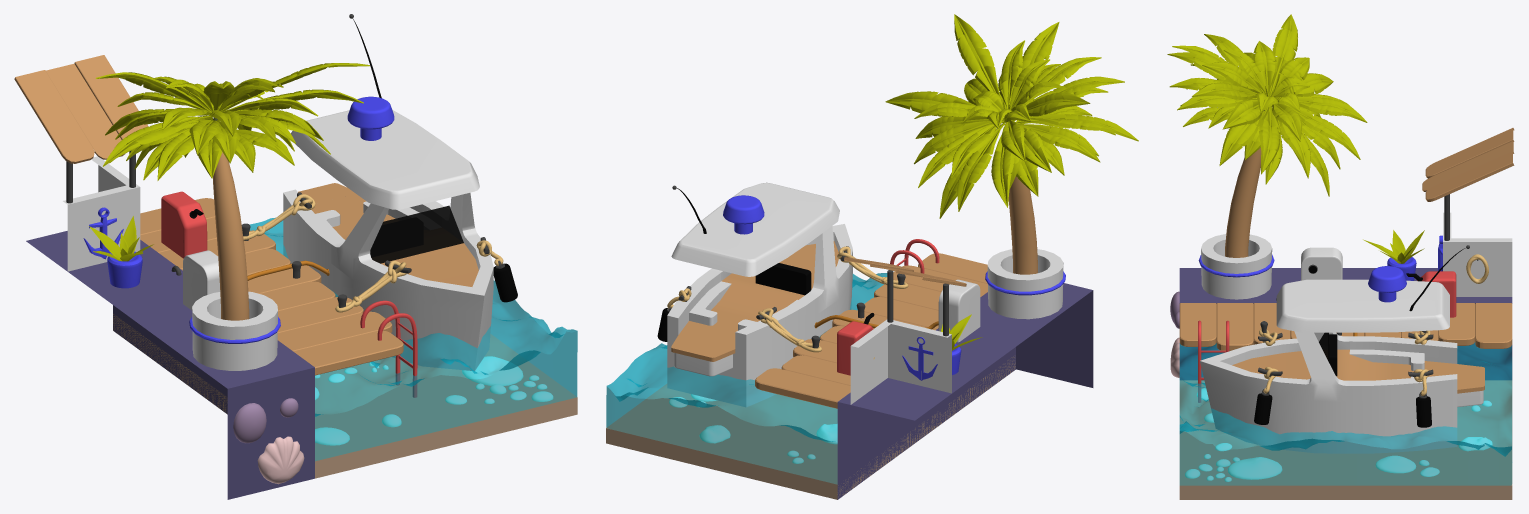
Rendered from TextureReady3.fbx.
3 views of the same model, side by side, from view 1: azimuth 30°, elevation 25°; view 2: azimuth 150°, elevation 25°; view 3: azimuth 270°, elevation 25° (orthographic). The views are drawn at different scales.
Visible parts, largest first — view 1: pPlane51, BoatBody, Sand, ConcreteBlock, BoatAwning, PottedPalm, DockHouseWalls, WoodDock33, WoodDock34, WoodDock, GasCan, WoodDock25 (+26 smaller); view 2: pPlane51, ConcreteBlock, BoatBody, Sand, BoatAwning, PottedPalm, DockHouseWalls, WoodDock32, pPlane5, WhiteGasThing, WoodDock27, pPlane17 (+26 smaller); view 3: BoatBody, pPlane51, Sand, BoatAwning, PottedPalm, ConcreteBlock, DockHouseWalls, WoodDock32, WoodDock25, WoodDock, WoodDock35, WhiteGasThing (+33 smaller).
Boxes of the visible parts, x1,y1,x2,y2 form: pPlane51: [249, 217, 577, 461]; BoatBody: [283, 189, 493, 370]; Sand: [113, 314, 577, 478]; ConcreteBlock: [26, 231, 314, 499]; BoatAwning: [291, 110, 479, 209]; PottedPalm: [189, 117, 280, 370]; DockHouseWalls: [63, 156, 140, 271]; WoodDock33: [14, 70, 94, 163]; WoodDock34: [46, 63, 124, 159]; WoodDock: [293, 330, 403, 375]; GasCan: [161, 191, 207, 258]; WoodDock25: [277, 311, 392, 351]; pPlane51: [606, 273, 887, 484]; ConcreteBlock: [837, 283, 1093, 499]; BoatBody: [667, 224, 852, 407]; Sand: [606, 356, 1015, 499]; BoatAwning: [671, 182, 839, 276]; PottedPalm: [985, 176, 1065, 319]; DockHouseWalls: [850, 319, 951, 404]; WoodDock32: [755, 368, 850, 408]; pPlane5: [954, 14, 1004, 108]; WhiteGasThing: [938, 279, 980, 342]; WoodDock27: [864, 297, 938, 329]; pPlane17: [957, 122, 1005, 211]; BoatBody: [1200, 331, 1457, 453]; pPlane51: [1179, 342, 1512, 485]; Sand: [1179, 380, 1512, 499]; BoatAwning: [1276, 279, 1449, 332]; PottedPalm: [1198, 110, 1274, 299]; ConcreteBlock: [1179, 268, 1512, 380]; DockHouseWalls: [1443, 212, 1512, 296]; WoodDock32: [1475, 303, 1512, 348]; WoodDock25: [1216, 303, 1253, 351]; WoodDock: [1179, 303, 1216, 346]; WoodDock35: [1425, 151, 1514, 201]; WhiteGasThing: [1301, 247, 1342, 280].
Size of the model in its own units: 10.02 by 8.77 by 8.35.
